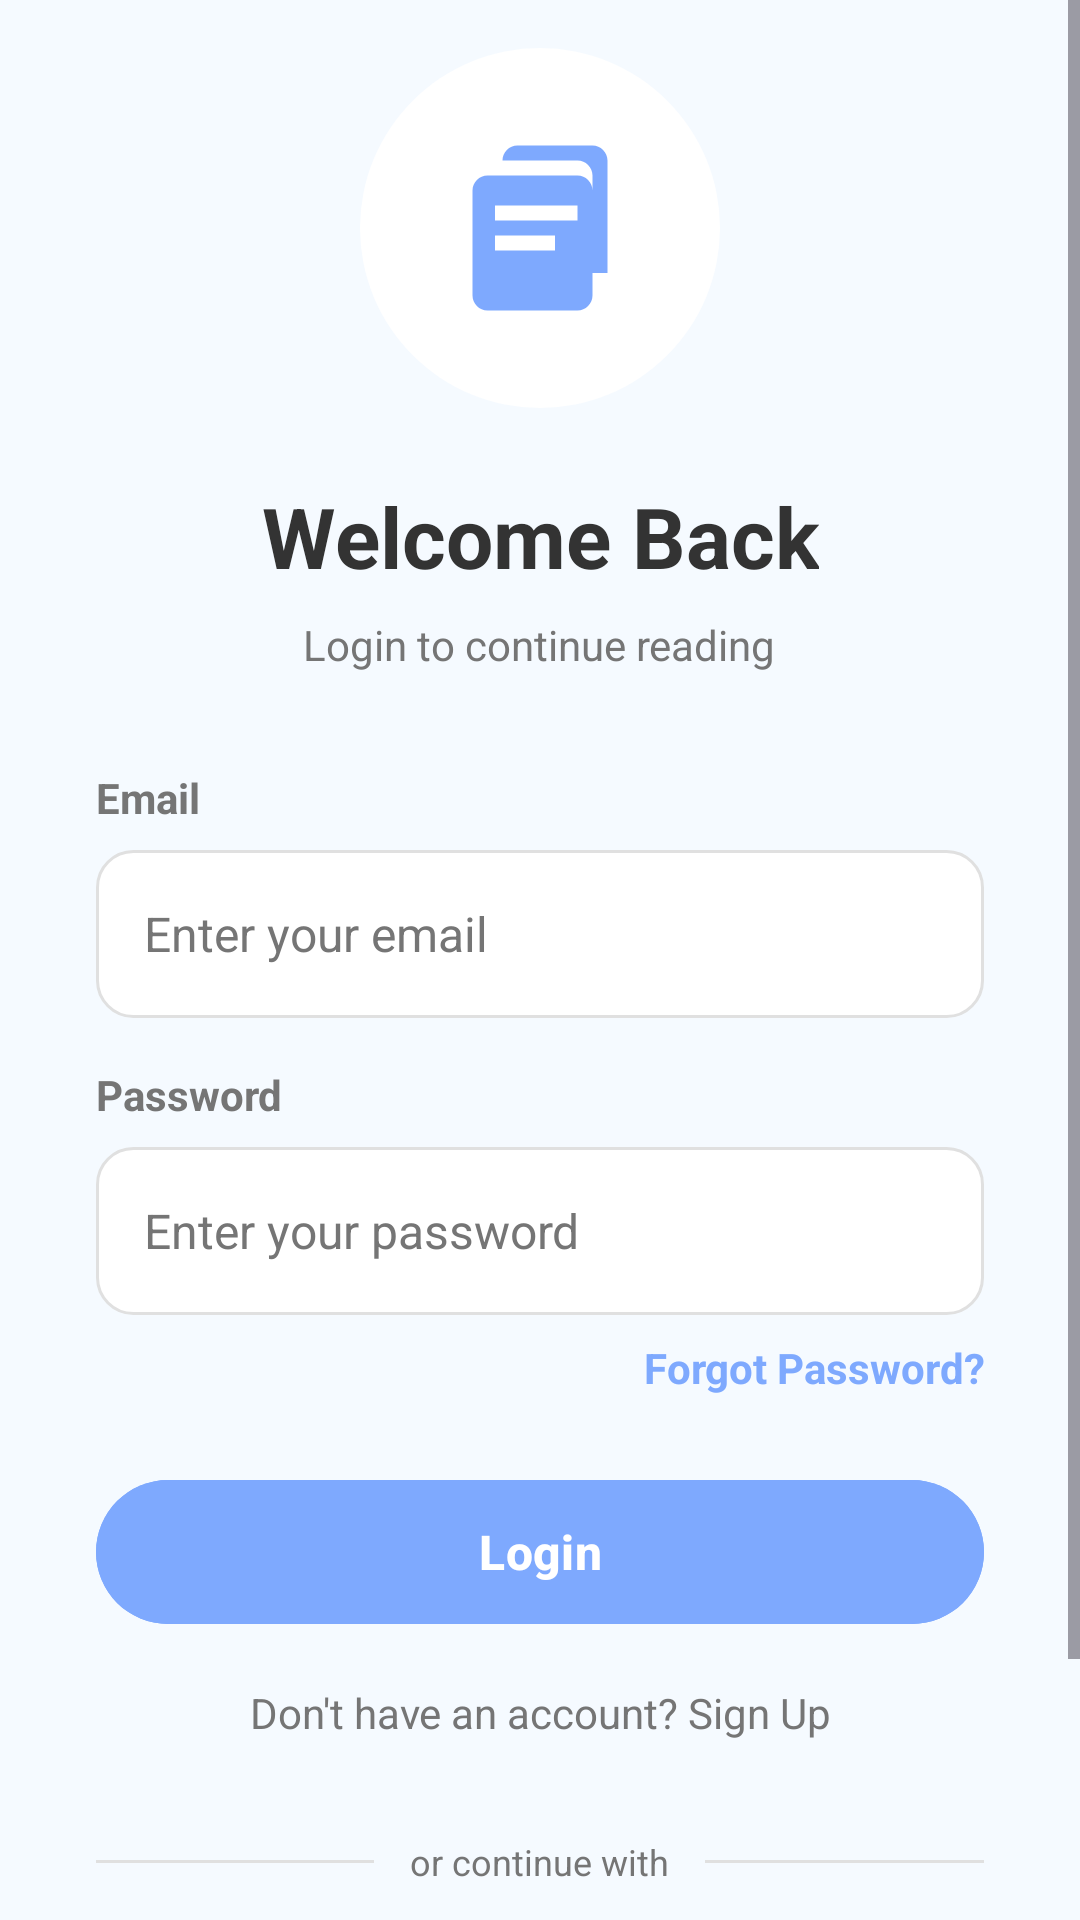

Icon click points for this 1080×1920 phone screenshot, format [x,y]:
book stories: [540,228]
